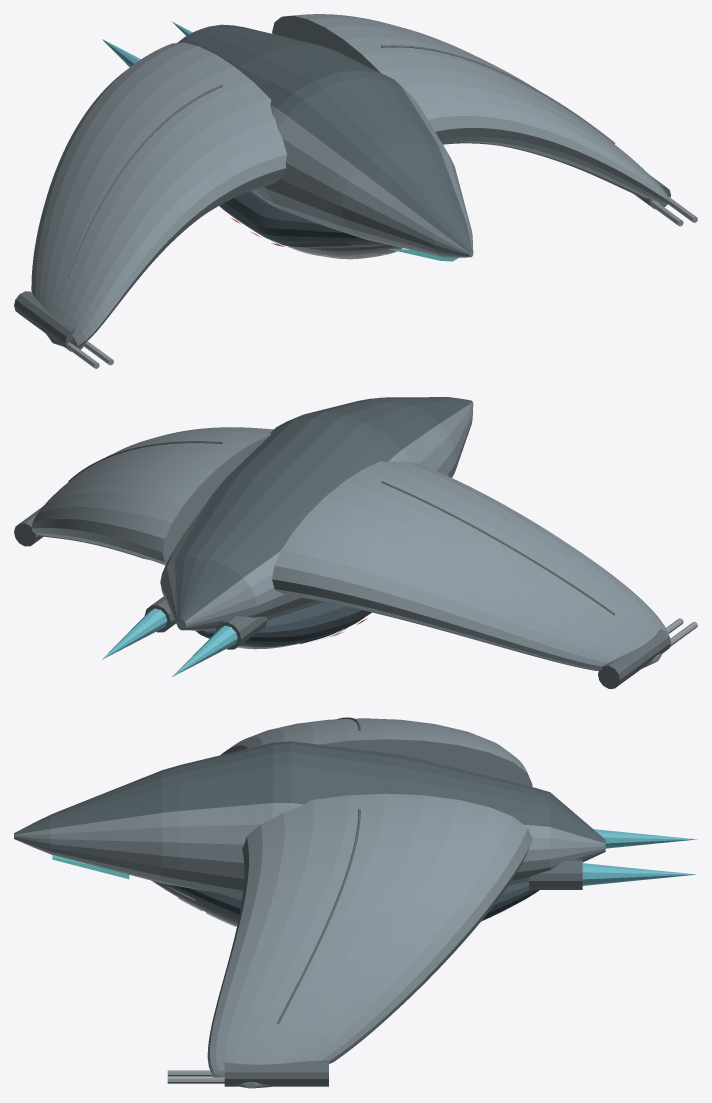
File: ambwe_slate_flight.glb
The picture shows the model from 3 angles, top to bottom: view 1: azimuth 30°, elevation 25°; view 2: azimuth 150°, elevation 25°; view 3: azimuth 270°, elevation 25°; orthographic projection. The views are drawn at different scales.
Parts seen in each view (by area): view 1: material_0, material_1, material_2, material_9, material_11, material_3, material_5; view 2: material_0, material_1, material_9, material_2, material_12, material_10; view 3: material_0, material_1, material_9, material_12, material_2, material_11.
Part boxes in pixels (x1=…): material_0: x1=31, y1=14, x2=669, y2=347; material_1: x1=177, y1=24, x2=472, y2=252; material_2: x1=220, y1=191, x2=386, y2=245; material_9: x1=14, y1=45, x2=670, y2=351; material_11: x1=66, y1=197, x2=697, y2=368; material_3: x1=291, y1=244, x2=403, y2=257; material_5: x1=219, y1=205, x2=351, y2=246; material_0: x1=31, y1=402, x2=668, y2=670; material_1: x1=174, y1=397, x2=472, y2=621; material_9: x1=14, y1=441, x2=670, y2=688; material_2: x1=195, y1=602, x2=370, y2=646; material_12: x1=102, y1=608, x2=237, y2=676; material_10: x1=35, y1=534, x2=598, y2=670; material_0: x1=14, y1=718, x2=605, y2=1088; material_1: x1=14, y1=741, x2=605, y2=843; material_9: x1=224, y1=717, x2=582, y2=1086; material_12: x1=582, y1=829, x2=697, y2=885; material_2: x1=155, y1=881, x2=539, y2=921; material_11: x1=167, y1=1070, x2=224, y2=1083.
Bounding box in the file's own units: 4.65 × 1.35 × 4.45.
